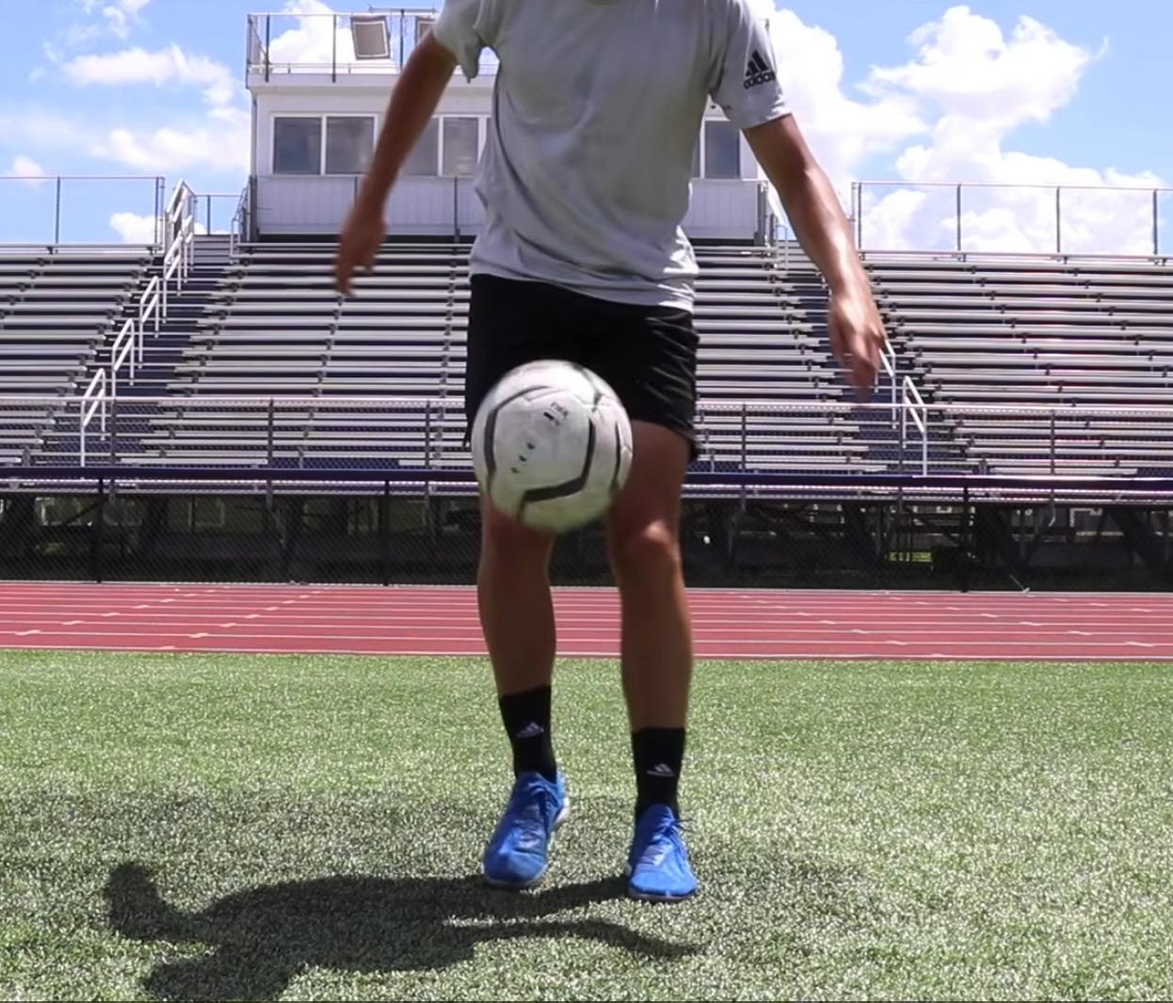ball: (466, 358, 637, 529)
foot: (486, 773, 563, 892), (628, 800, 704, 905)
person: (330, 0, 883, 904)
